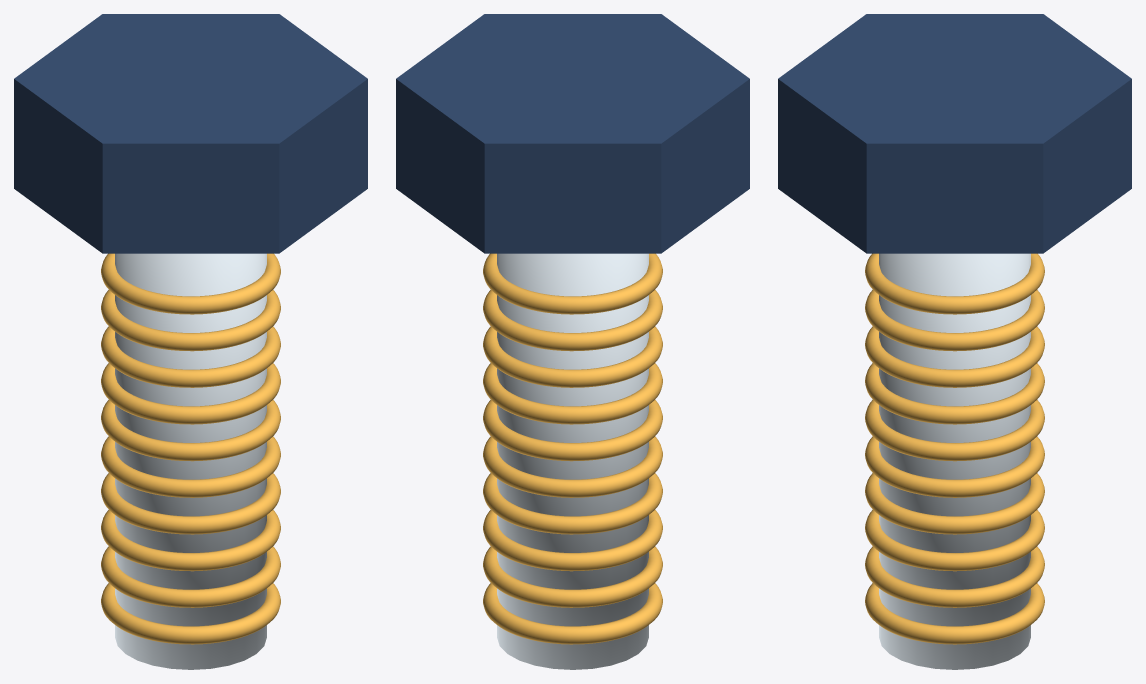
Rendered from hex-bolt-quality.glb.
3 renders of one model, left to right at view 1: azimuth 30°, elevation 25°; view 2: azimuth 150°, elevation 25°; view 3: azimuth 270°, elevation 25°, orthographic.
Visible parts, largest first — view 1: Hex head; view 2: Hex head; view 3: Hex head.
Part boxes in pixels (x1,y1,x2,y2): Hex head: (14,14,367,669); Hex head: (396,14,749,669); Hex head: (778,14,1131,669).
Bounding box in the file's own units: 0.6062 × 1.22 × 0.7.
